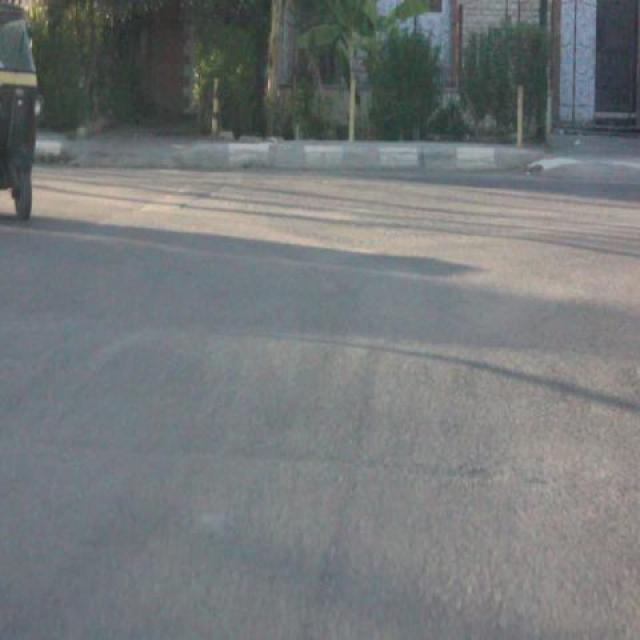Unmarked Bump: (316, 340, 640, 493), (0, 329, 315, 462)
